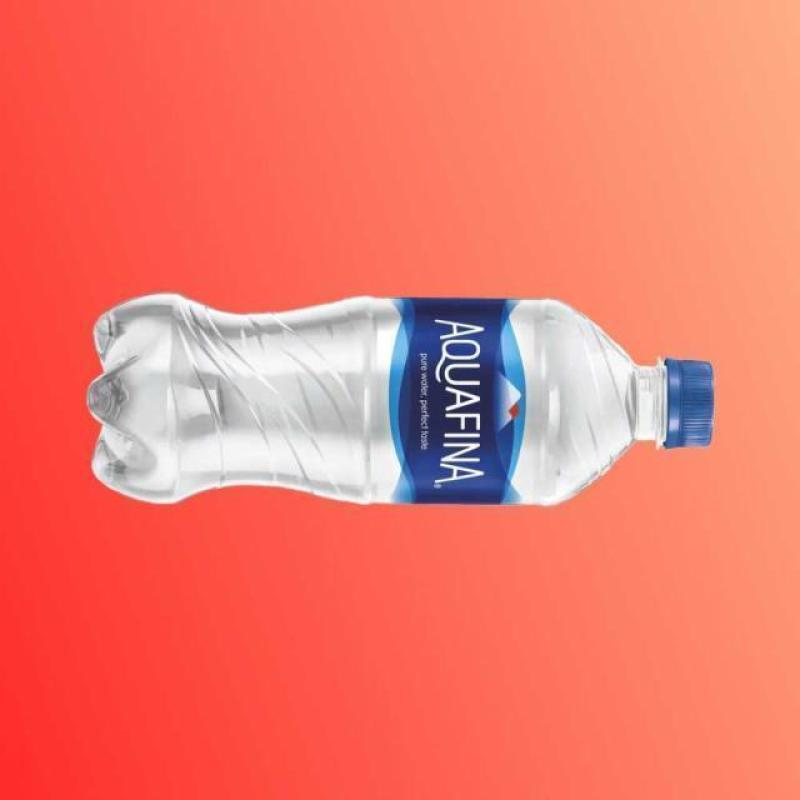botella: (87, 294, 715, 504)
